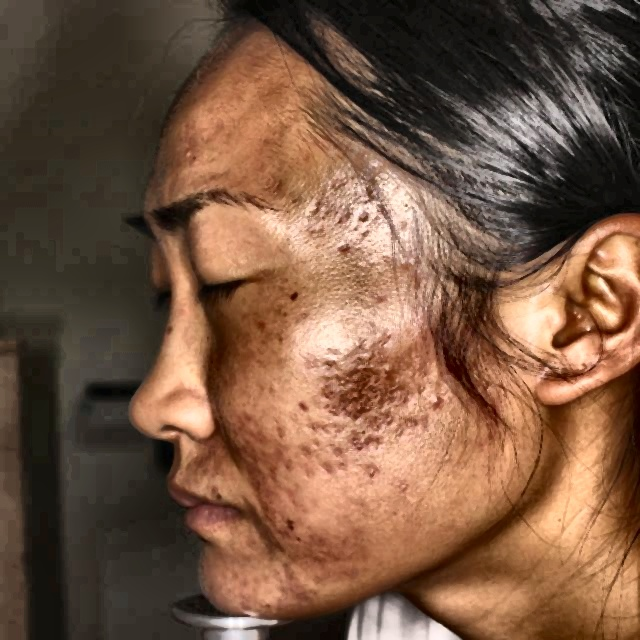papule: (429, 392, 475, 422), (347, 205, 387, 234), (308, 539, 347, 567), (372, 387, 417, 411), (232, 413, 265, 445), (314, 434, 346, 466), (320, 391, 350, 420), (347, 428, 379, 451), (286, 583, 318, 605), (370, 330, 402, 352), (317, 348, 347, 371), (347, 388, 372, 415), (404, 269, 433, 290), (394, 254, 422, 273), (409, 412, 432, 433), (359, 462, 378, 487), (372, 357, 399, 374), (292, 398, 311, 418), (329, 372, 356, 382), (330, 244, 339, 255), (279, 468, 287, 476)
